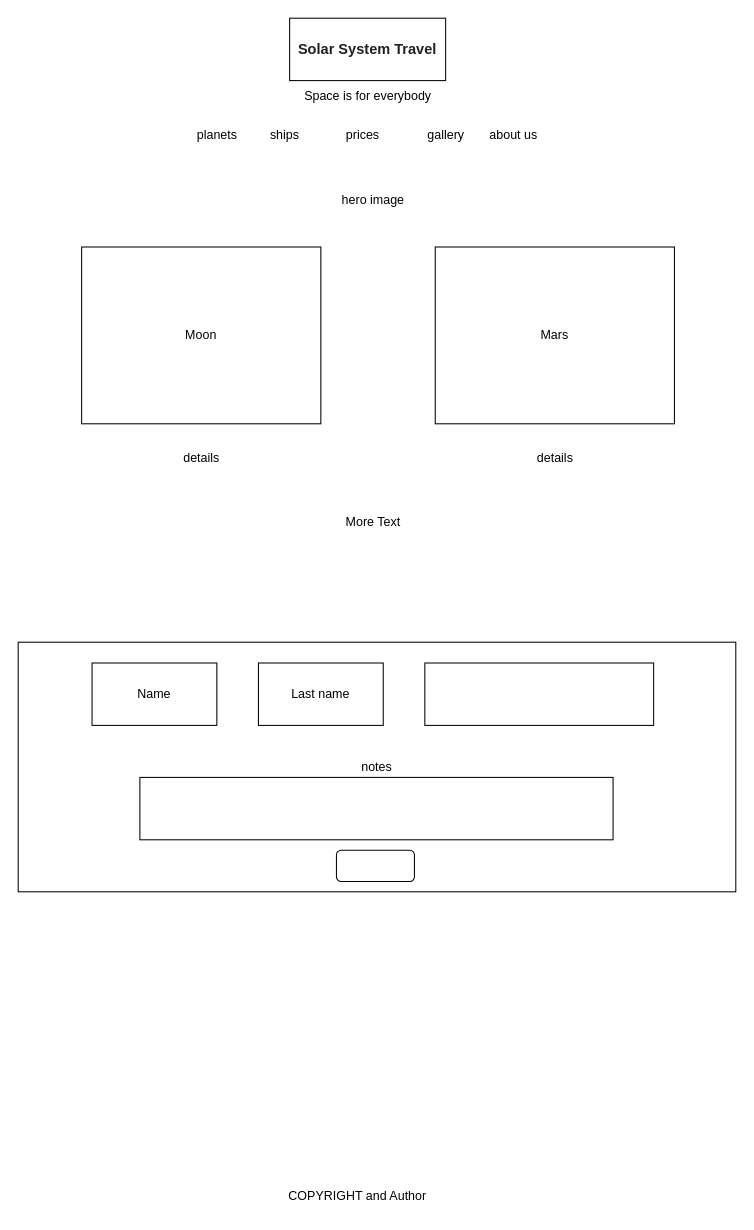
This 754x1230 diagram has some shape labels left out. The box of each missing label's shape, as (x1, y1, x2, y2) in pixels:
dates: (139, 776, 613, 840)
Email: (424, 662, 654, 725)
Send: (335, 849, 414, 881)
